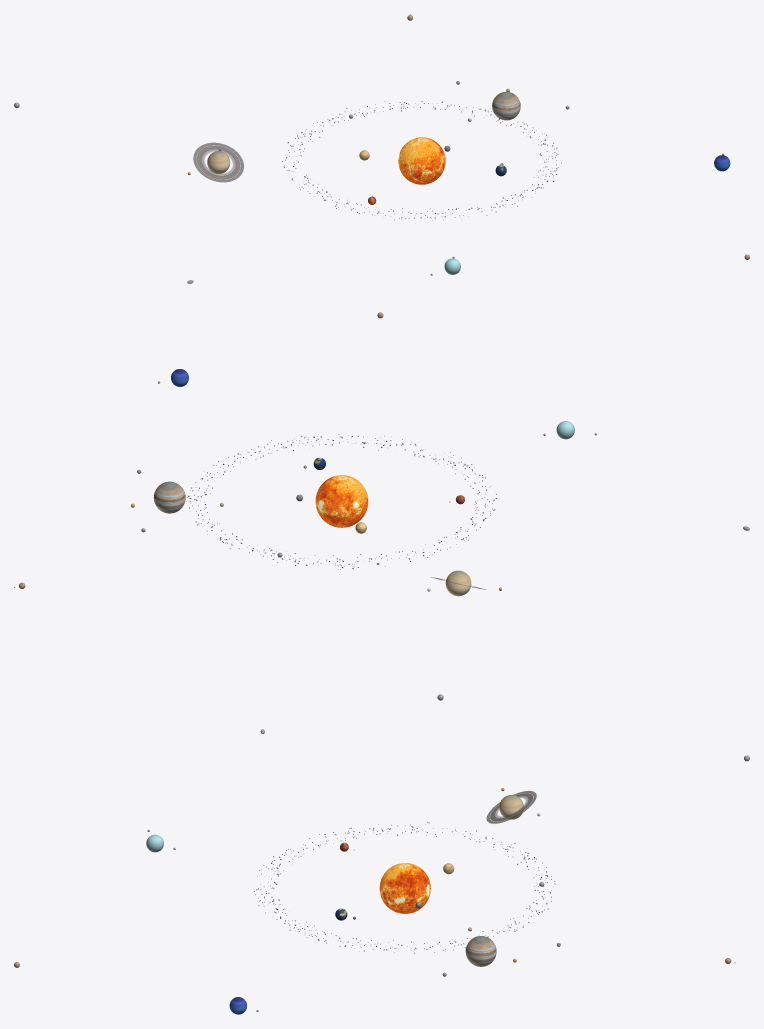
File: solaris.glb
3 views of the same model, one above another, from view 1: azimuth 30°, elevation 25°; view 2: azimuth 150°, elevation 25°; view 3: azimuth 270°, elevation 25° (orthographic). The views are drawn at different scales.
Visible parts, largest first — view 1: sun, saturn-rings, asteroid-belt, jupiter; view 2: sun, jupiter, asteroid-belt; view 3: sun, jupiter, asteroid-belt, saturn-rings.
Boxes of the visible parts, <box> form: sun: <box>398,137,445,184</box>; saturn-rings: <box>193,142,243,182</box>; asteroid-belt: <box>282,101,561,220</box>; jupiter: <box>492,91,520,120</box>; sun: <box>315,475,368,527</box>; jupiter: <box>153,481,185,513</box>; asteroid-belt: <box>186,434,496,569</box>; sun: <box>379,863,430,913</box>; jupiter: <box>465,936,496,966</box>; asteroid-belt: <box>253,821,555,953</box>; saturn-rings: <box>486,791,536,823</box>.
Size of the model in its own units: 63.69 by 4.9 by 70.43.
29 materials, 11 textured.
